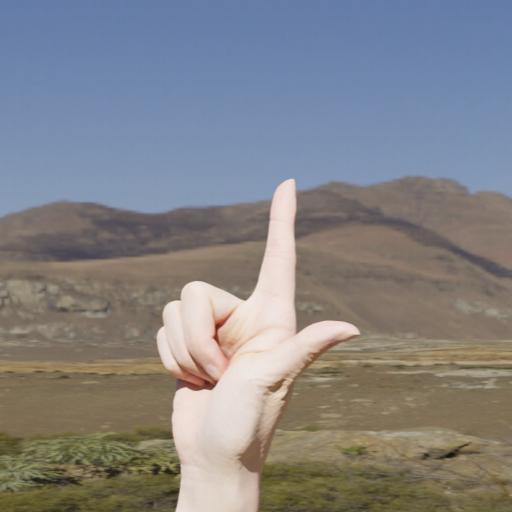L: (125, 163, 368, 502)
